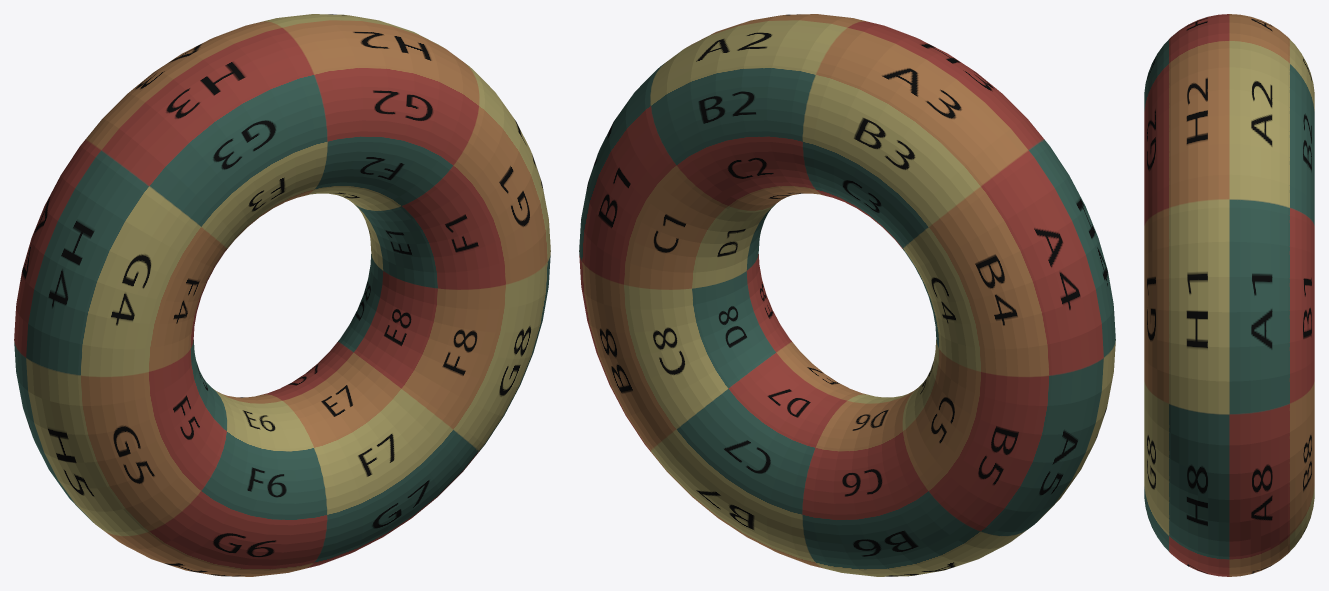
The model's file is texture_torus_R13_r23.glb.
3 views of the same model, side by side, from view 1: azimuth 30°, elevation 25°; view 2: azimuth 150°, elevation 25°; view 3: azimuth 270°, elevation 25° (orthographic). The views are drawn at different scales.
Visible parts, largest first — view 1: world; view 2: world; view 3: world.
Boxes of the visible parts, x1,y1,x2,y2 form: world: (14, 14, 550, 576); world: (579, 14, 1115, 576); world: (1144, 14, 1314, 576).
Bounding box in the file's own units: 26.8 × 26.75 × 8.12.
Materials: 1 (1 with a texture image).
